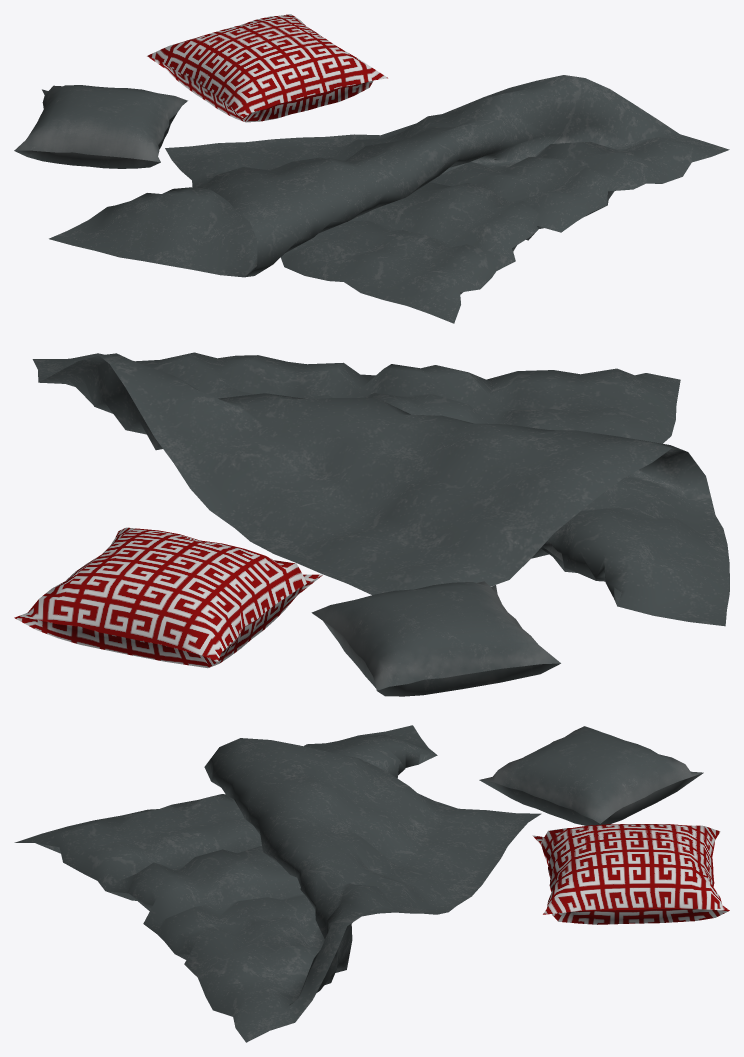
File: Blanket.glb
3 views of the same model, one above another, from view 1: azimuth 30°, elevation 25°; view 2: azimuth 150°, elevation 25°; view 3: azimuth 270°, elevation 25° (orthographic). The views are drawn at different scales.
Parts seen in each view (by area): view 1: default002_Cloth_0, default002_Pillow_0, default002_Pillow_2_0; view 2: default002_Cloth_0, default002_Pillow_0, default002_Pillow_2_0; view 3: default002_Cloth_0, default002_Pillow_0, default002_Pillow_2_0.
Boxes of the visible parts, box(x1,y1,x2,y2) form: default002_Cloth_0: box(49, 75, 729, 323); default002_Pillow_0: box(147, 14, 387, 122); default002_Pillow_2_0: box(14, 85, 187, 168); default002_Cloth_0: box(32, 352, 729, 626); default002_Pillow_0: box(14, 527, 322, 668); default002_Pillow_2_0: box(311, 581, 560, 696); default002_Cloth_0: box(14, 725, 541, 1042); default002_Pillow_0: box(532, 824, 729, 924); default002_Pillow_2_0: box(479, 726, 703, 825).
Size of the model in its own units: 7.4 by 0.762 by 7.08.
3 materials, 3 textured.
